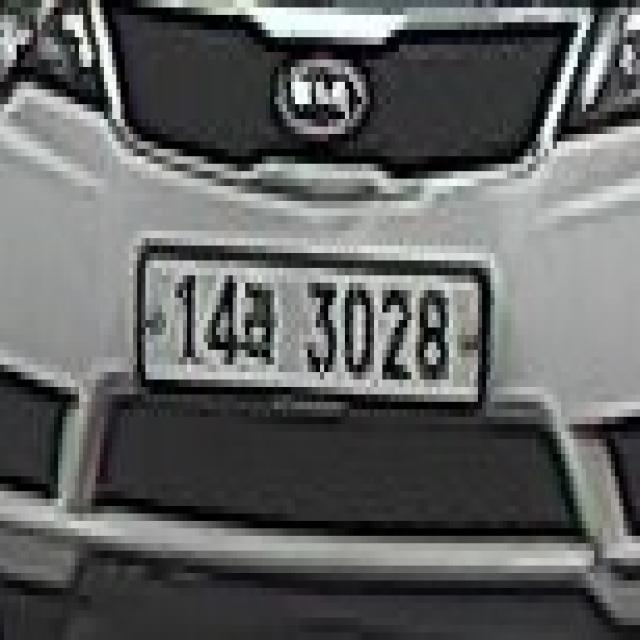0: (341, 275, 378, 387)
1: (170, 260, 200, 380)
2: (382, 276, 412, 394)
3: (299, 268, 341, 379)
4: (204, 268, 241, 379)
8: (412, 275, 457, 387)
la: (241, 268, 287, 379)
license_plate: (129, 231, 494, 424)
